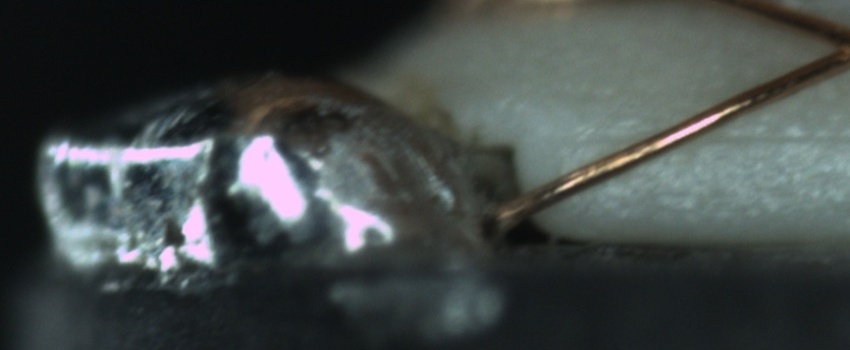CL: (802, 14, 850, 77)
DL: (571, 107, 846, 169)
